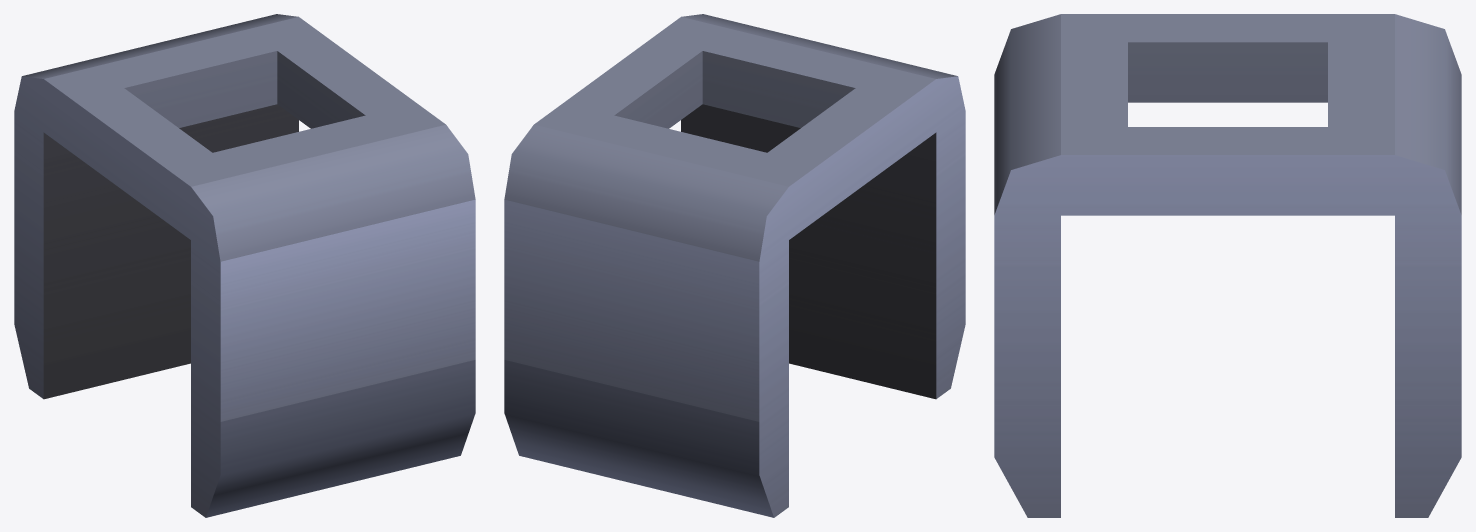
The picture shows the model from 3 angles, left to right: view 1: azimuth 30°, elevation 25°; view 2: azimuth 150°, elevation 25°; view 3: azimuth 270°, elevation 25°; orthographic projection. The views are drawn at different scales.
Parts seen in each view (by area): view 1: cover_top; view 2: cover_top; view 3: cover_top.
Boxes of the visible parts, x1=… form: cover_top: x1=14, y1=14, x2=475, y2=517; cover_top: x1=504, y1=14, x2=965, y2=517; cover_top: x1=994, y1=14, x2=1461, y2=517.
Bounding box in the file's own units: 1 × 1.2 × 1.4.
1 material, 1 textured.
